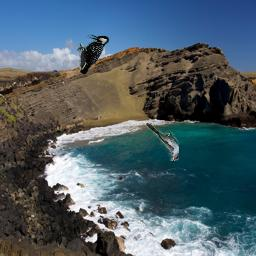Cuckoo: (146, 123, 179, 161)
Woodpecker: (76, 34, 110, 74)
